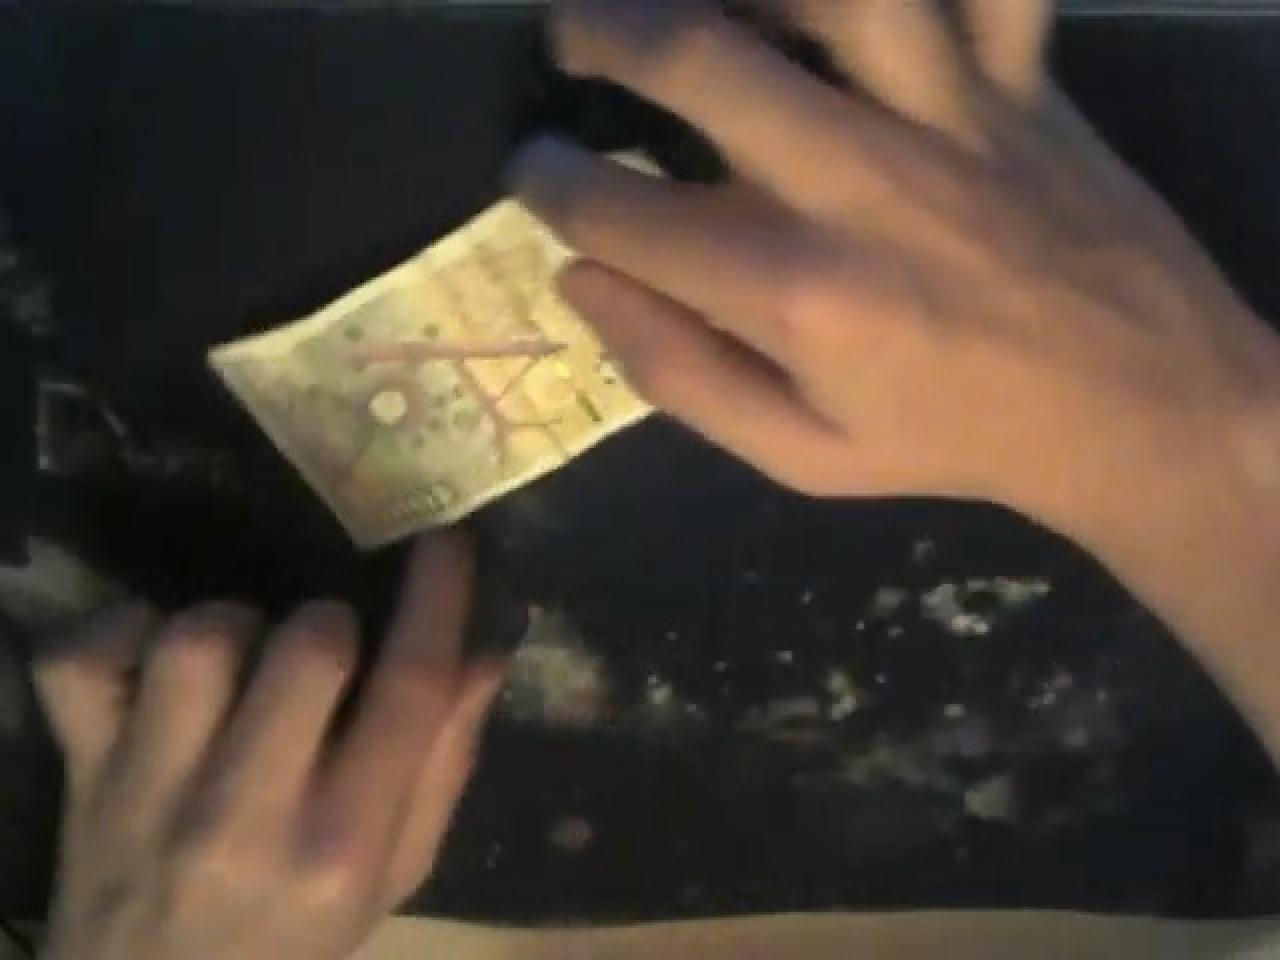10leva: (206, 192, 656, 558)
